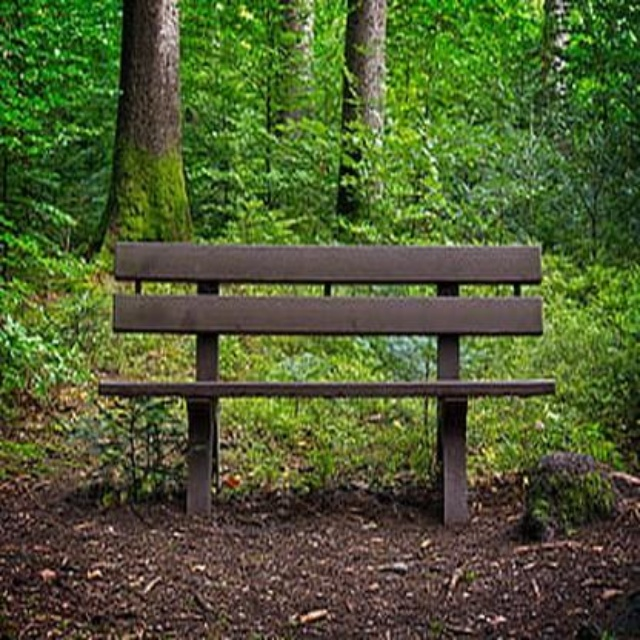obstacle: (74, 231, 562, 546)
